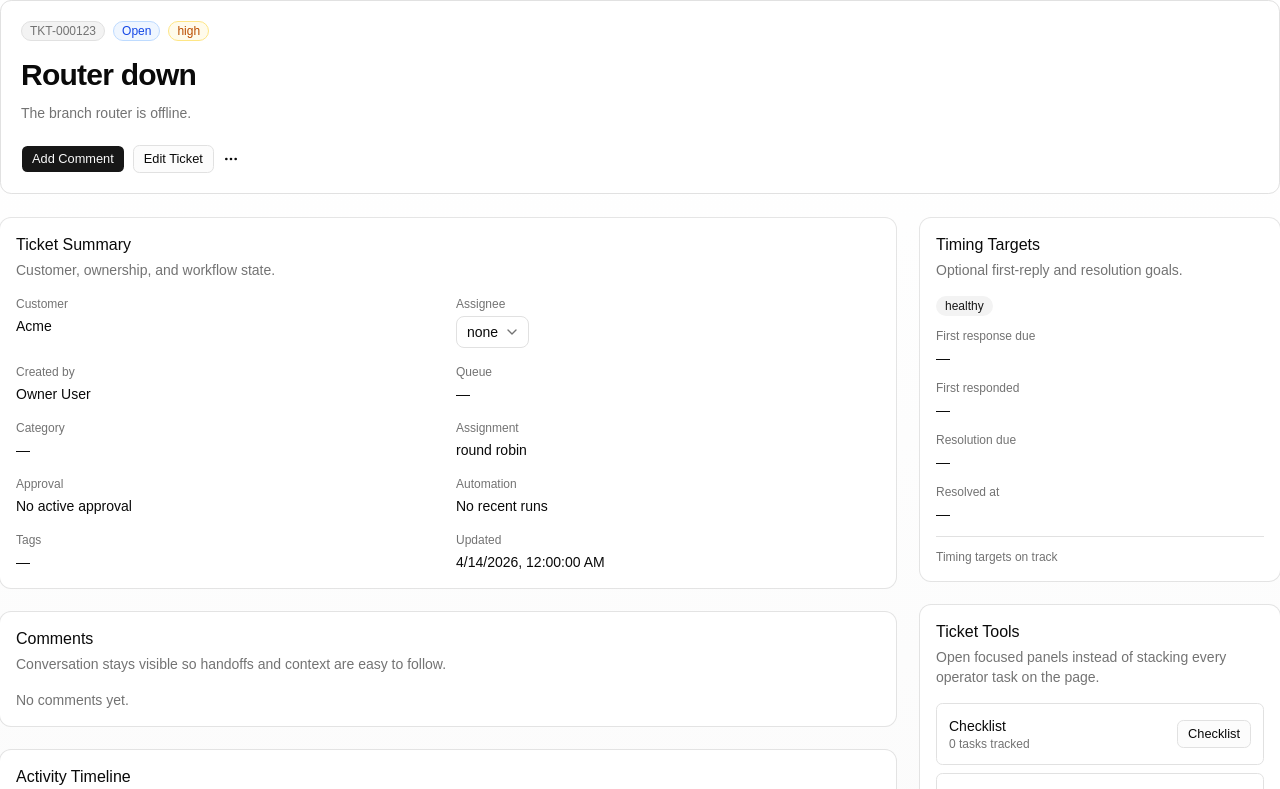
Test: TicketDetailsPage mutations › shows checklist error when adding a task fails
The image size is (1280, 789).
Expected: the text "Ticket Summary" is shown, x1=16 y1=236 x2=131 y2=253
Click the button with aria-label "Open Checklist".
click(1214, 734)  # box x1=1177 y1=720 x2=1251 y2=748
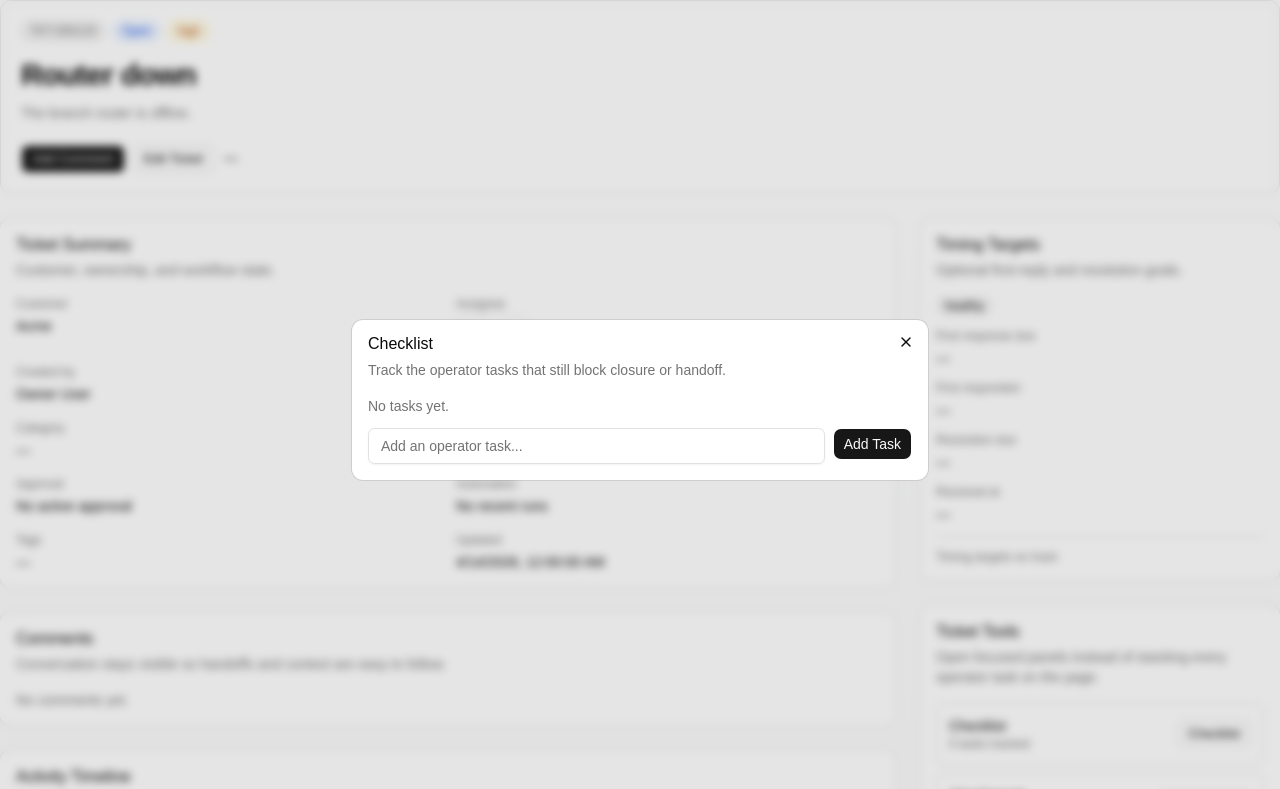
Expected: the button "Add Task" is shown, x1=833 y1=428 x2=912 y2=460
Type "Escalate to NOC" into the field with placeholder "Add an operator task...".
click(596, 446); type("Escalate to NOC")  # box x1=368 y1=428 x2=825 y2=464
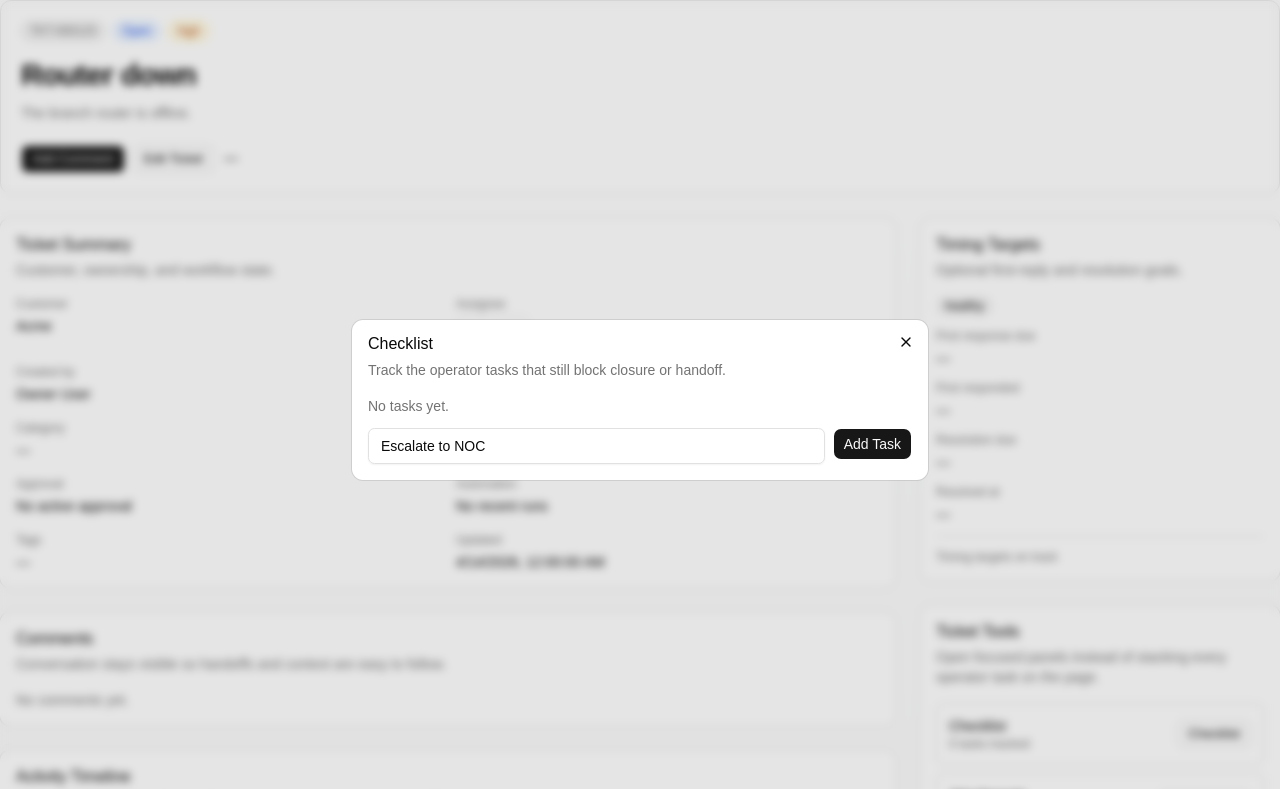
Click the button "Add Task".
click(872, 444)  # box x1=833 y1=428 x2=912 y2=460
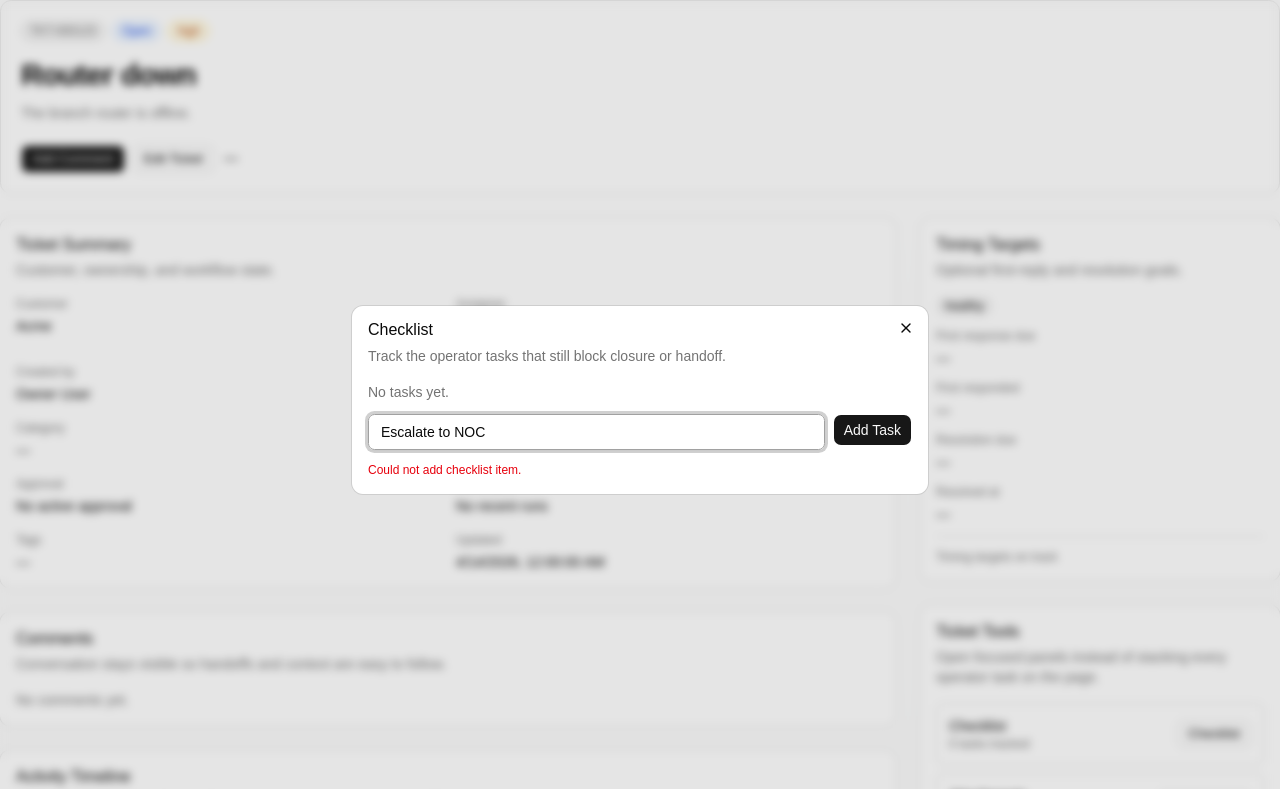
Expected: the text "Could not add checklist item." is shown, x1=368 y1=463 x2=521 y2=477
